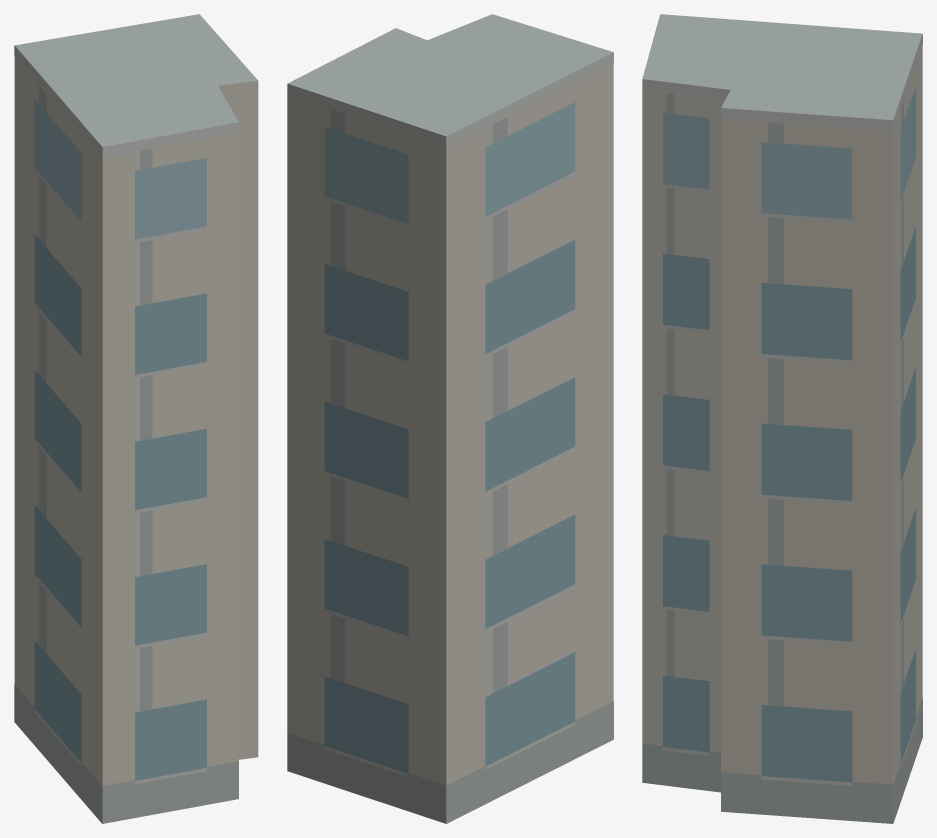
The model's file is survey-upis-32486243.glb.
The picture shows the model from 3 angles, left to right: view 1: azimuth 30°, elevation 25°; view 2: azimuth 150°, elevation 25°; view 3: azimuth 270°, elevation 25°; orthographic projection. The views are drawn at different scales.
Parts seen in each view (by area): view 1: survey-upis-32486243.tmp; view 2: survey-upis-32486243.tmp; view 3: survey-upis-32486243.tmp.
Part boxes in pixels (left/top/right/bottom): survey-upis-32486243.tmp: left=14, top=14, right=258, bottom=823; survey-upis-32486243.tmp: left=287, top=14, right=613, bottom=823; survey-upis-32486243.tmp: left=642, top=14, right=922, bottom=823.
Bounding box in the file's own units: 4.94 × 15.25 × 5.52.
